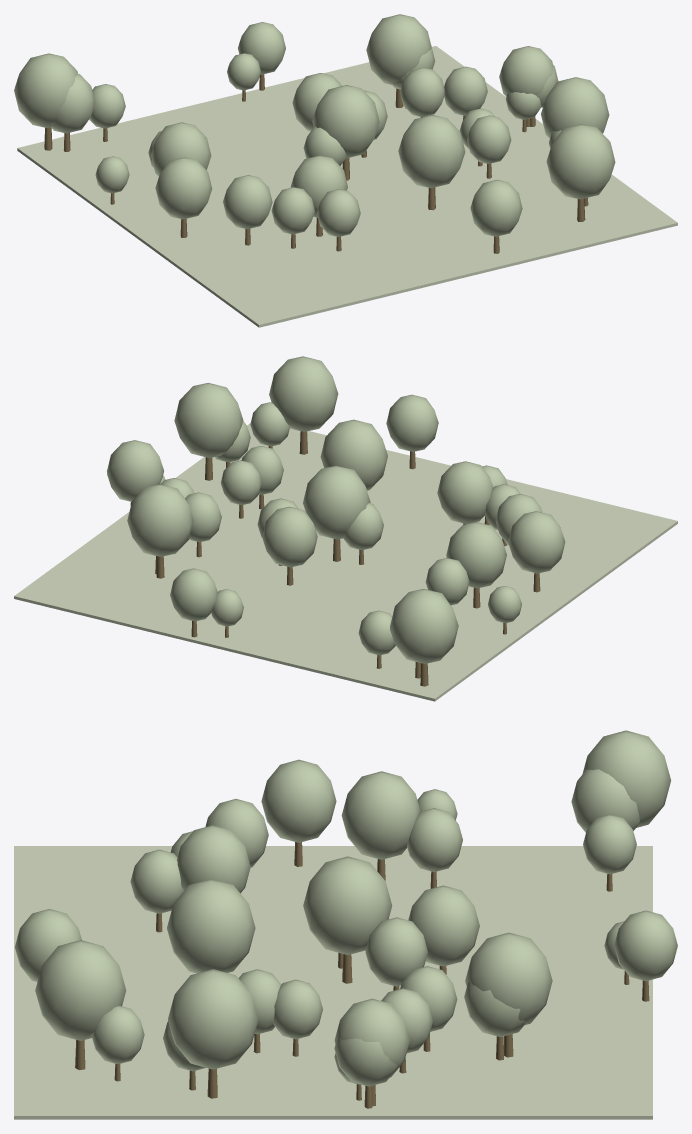
3 renders of one model, top to bottom at view 1: azimuth 30°, elevation 25°; view 2: azimuth 150°, elevation 25°; view 3: azimuth 270°, elevation 25°, orthographic. The views are drawn at different scales.
Visible parts, largest first — view 1: terrain, lod-near-22, lod-near-15, lod-near-9, lod-near-25, lod-near-19, lod-near-18, lod-near-11, lod-near-21, lod-near-26, lod-near-30, lod-near-5 (+14 smaller); view 2: terrain, lod-near-25, lod-near-18, lod-near-22, lod-near-19, lod-near-9, lod-near-15, lod-near-5, lod-near-11, lod-near-12, lod-near-3, lod-near-26 (+14 smaller); view 3: terrain, lod-near-18, lod-near-22, lod-near-15, lod-near-9, lod-near-5, lod-near-19, lod-near-11, lod-near-25, lod-near-3, lod-near-12, lod-near-24 (+17 smaller).
Boxes of the visible parts, <box> form: terrain: <box>17,46,677,327</box>; lod-near-22: <box>546,124,615,199</box>; lod-near-15: <box>398,115,465,188</box>; lod-near-9: <box>312,85,379,158</box>; lod-near-25: <box>14,53,78,128</box>; lod-near-19: <box>366,14,431,85</box>; lod-near-18: <box>541,77,609,138</box>; lod-near-11: <box>155,157,212,219</box>; lod-near-21: <box>470,180,522,236</box>; lod-near-26: <box>499,46,552,96</box>; lod-near-30: <box>223,175,272,229</box>; lod-near-5: <box>151,122,211,176</box>; terrain: <box>14,423,677,701</box>; lod-near-25: <box>390,589,458,663</box>; lod-near-18: <box>174,383,243,457</box>; lod-near-22: <box>269,356,338,431</box>; lod-near-19: <box>127,484,193,556</box>; lod-near-9: <box>303,465,370,539</box>; lod-near-15: <box>320,419,387,490</box>; lod-near-5: <box>446,522,506,588</box>; lod-near-11: <box>508,511,565,573</box>; lod-near-12: <box>437,461,493,523</box>; lod-near-3: <box>262,506,317,567</box>; lod-near-26: <box>107,440,163,501</box>; terrain: <box>14,846,652,1119</box>; lod-near-18: <box>168,969,258,1069</box>; lod-near-22: <box>35,940,126,1040</box>; lod-near-15: <box>167,879,255,973</box>; lod-near-9: <box>303,856,392,955</box>; lod-near-5: <box>341,771,420,859</box>; lod-near-19: <box>465,932,552,1025</box>; lod-near-11: <box>261,759,336,842</box>; lod-near-25: <box>582,730,671,827</box>; lod-near-3: <box>408,885,479,966</box>; lod-near-12: <box>177,825,250,893</box>; lod-near-24: <box>614,910,677,981</box>.
Bounding box in the file's own units: 33.56 × 7.2 × 33.25.
